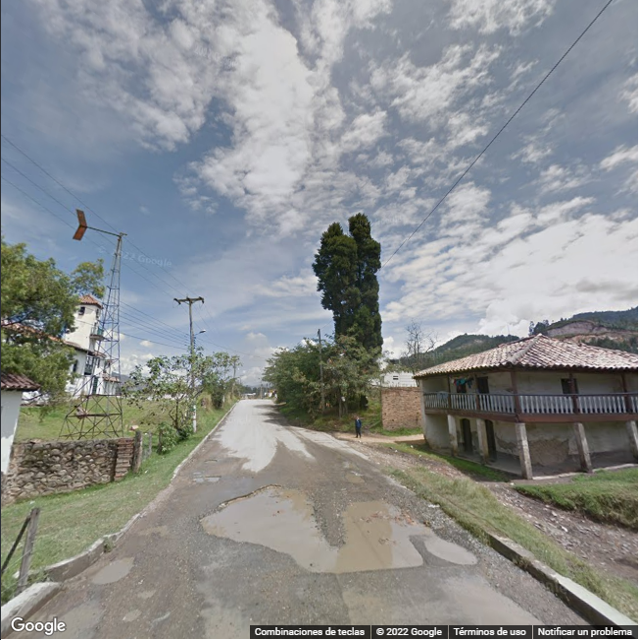D40: (210, 491, 422, 572), (425, 533, 482, 566), (88, 555, 137, 583)
